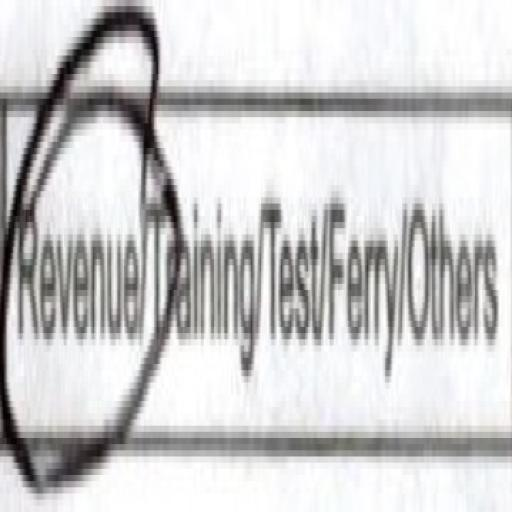check: (0, 0, 149, 512)
